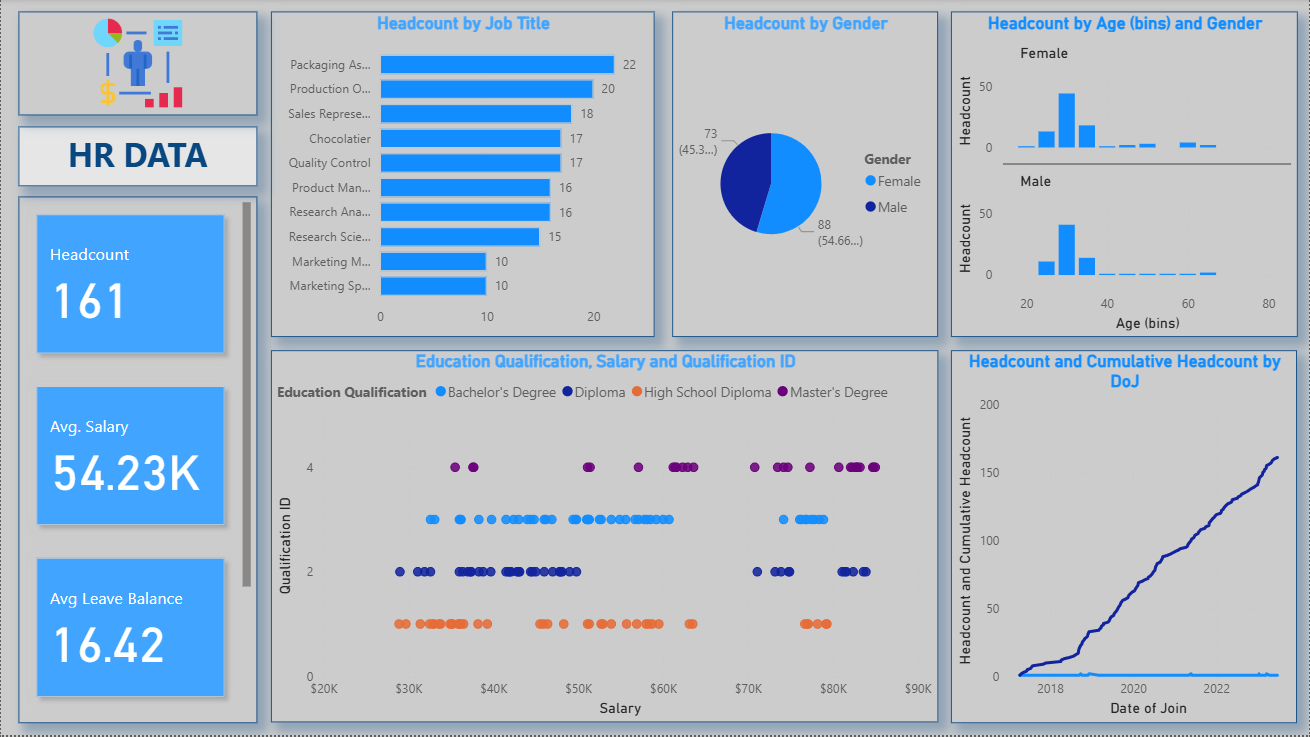

This screenshot's page, from the dashboard's own definition file:
{"tool":"powerbi","page":{"name":"HR Dashboard","canvas":[1280,720],"ordinal":10},"visuals":[{"type":"cardVisual","fields":{"Data":["data.Headcount","data.Avg. Salary","data.Avg Leave Balance","data.LBL over 20 days"]},"box":[17.1,193.2,233.6,514.8],"z":0},{"type":"barChart","fields":{"Category":["data.Job Title"],"Y":["data.Headcount"]},"box":[263.8,12.3,375.4,318.5],"z":1000},{"type":"pieChart","fields":{"Category":["data.Gender"],"Y":["data.Headcount"]},"box":[656.9,12.3,260,318.5],"z":2000},{"type":"columnChart","fields":{"Y":["data.Headcount"],"Category":["data.Age (bins)"],"Rows":["data.Gender"]},"box":[929.2,12.3,339.2,318.5],"z":3000},{"type":"scatterChart","fields":{"X":["data.Salary"],"Y":["qualification_dim.Qualification ID"],"Series":["qualification_dim.Education Qualification"]},"box":[263.8,343.8,653.1,363.8],"z":4000},{"type":"textbox","box":[17.1,124.7,233.6,58.7],"z":5000},{"type":"lineChart","title":"Headcount and Cumulative Headcount by DoJ","fields":{"Y":["data.Headcount","data.Cumulative Headcount"],"Category":["data.Date of Join"]},"box":[929.4,343.6,338.7,364.4],"z":6000},{"type":"image","box":[17.1,12.2,233.6,101.5],"z":7000}]}

Visuals, with their boxes in screenshot pixels (x1, y1, x2, y2), scaled from the page's 1280x720 canvas onto the 1310x737 screenshot:
cardVisual - data.Headcount x data.Avg. Salary: [left=18, top=198, right=257, bottom=725]
barChart - data.Job Title x data.Headcount: [left=270, top=13, right=654, bottom=339]
pieChart - data.Gender x data.Headcount: [left=672, top=13, right=938, bottom=339]
columnChart - data.Headcount x data.Age (bins): [left=951, top=13, right=1298, bottom=339]
scatterChart - data.Salary x qualification_dim.Qualification ID: [left=270, top=352, right=938, bottom=724]
textbox: [left=18, top=128, right=257, bottom=188]
"Headcount and Cumulative Headcount by DoJ" lineChart: [left=951, top=352, right=1298, bottom=725]
image: [left=18, top=12, right=257, bottom=116]
